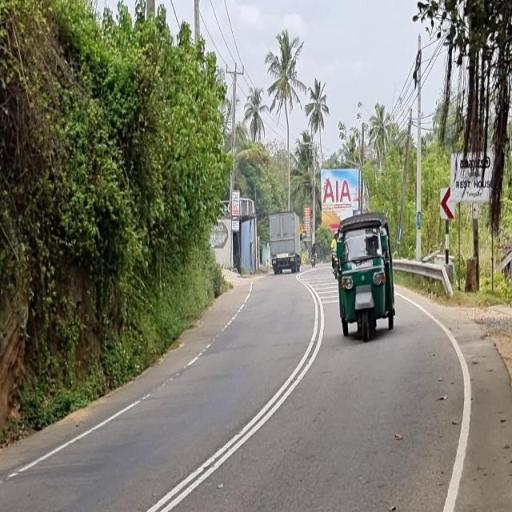double_white_line: (142, 284, 325, 510)
